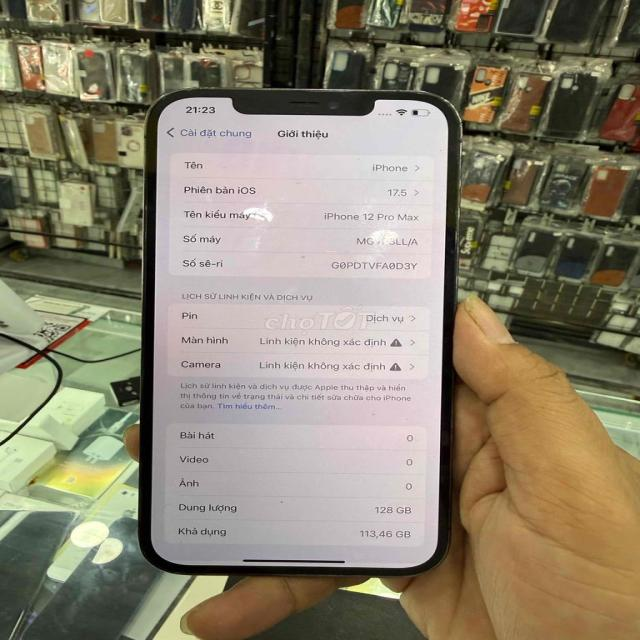gen_12_13: (138, 83, 459, 579)
